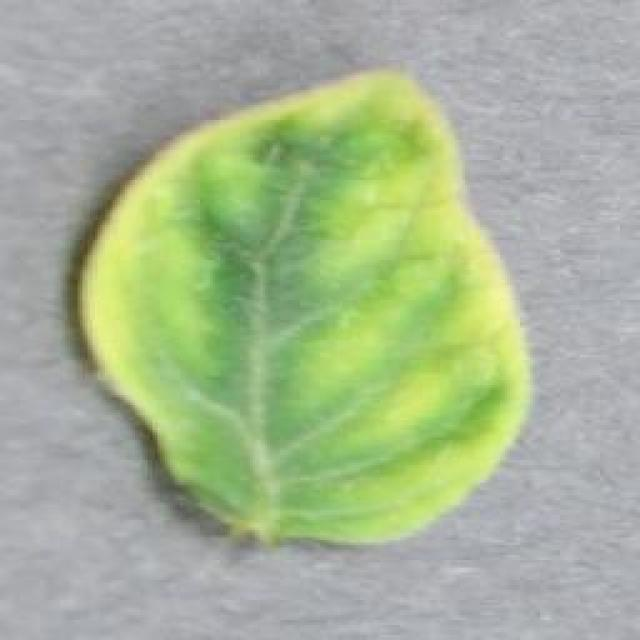Tomato yellow virus leaf: (71, 55, 531, 557)
